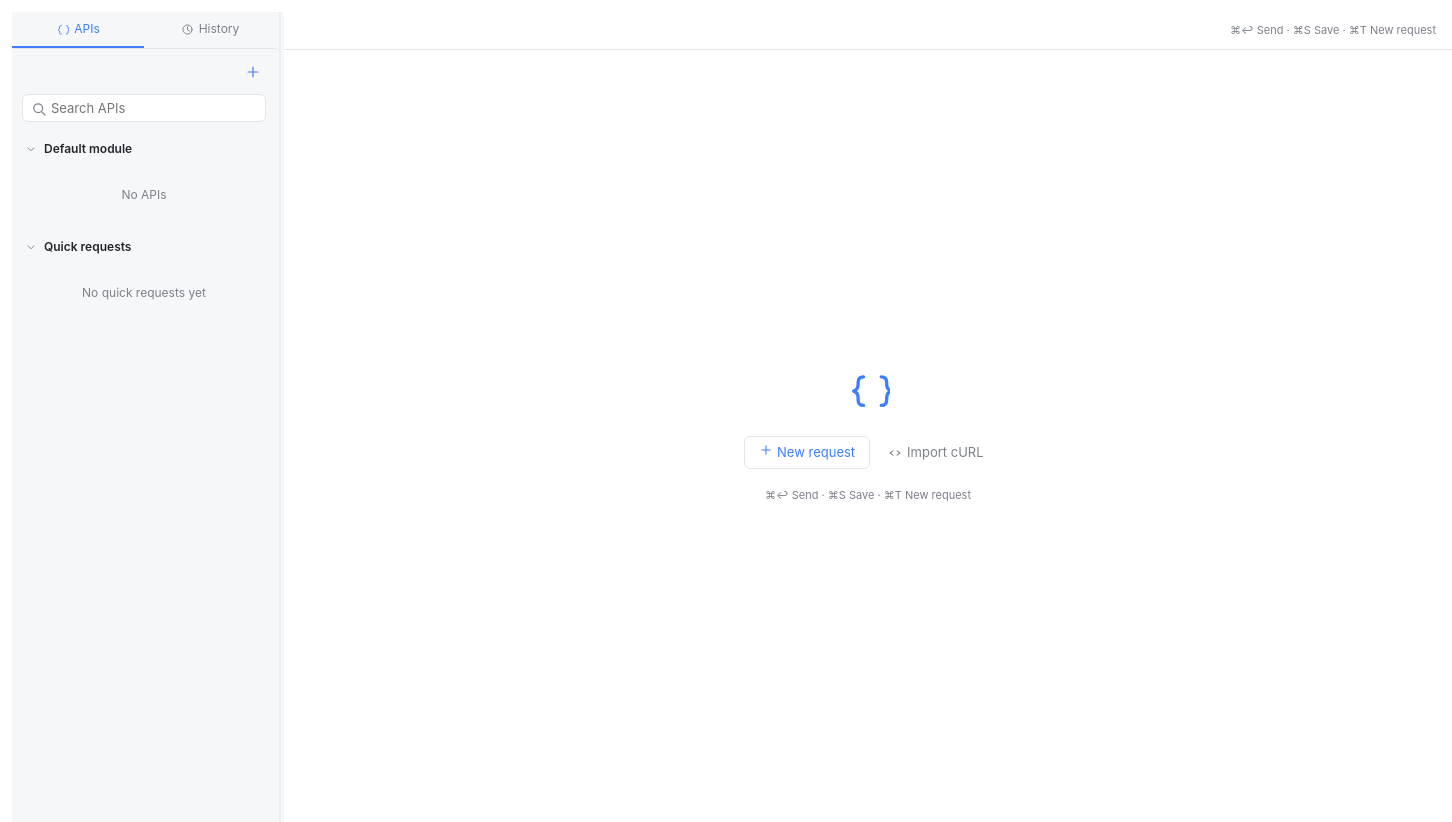
Scenario: body type chips › keeps the type names English in an English locale
The width and height of the screenshot is (1452, 822).
Click the button "New request" at x=807, y=453, box [744,436,870,469]
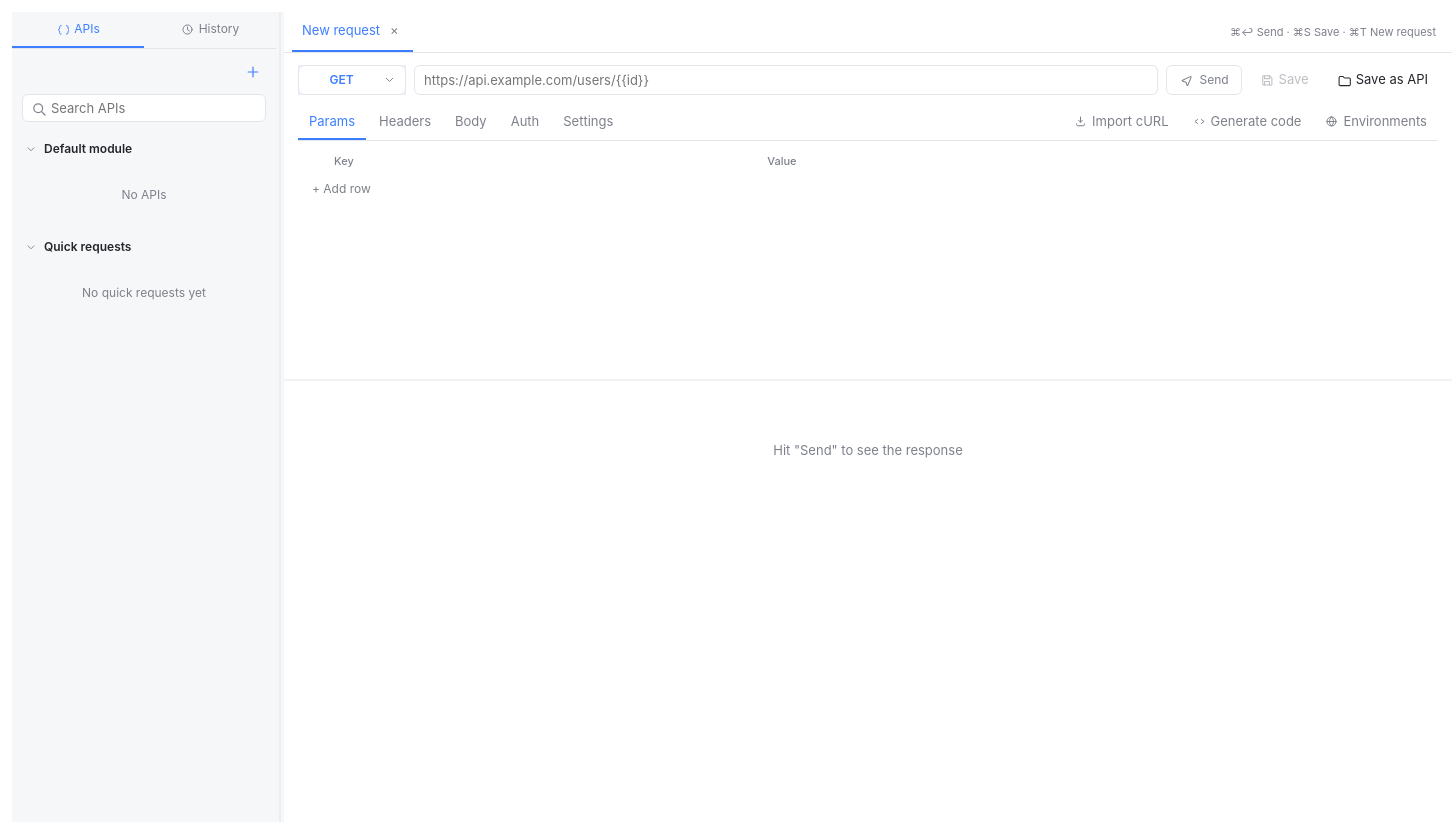
Click the button "Body" at x=471, y=122, box [444,104,498,140]
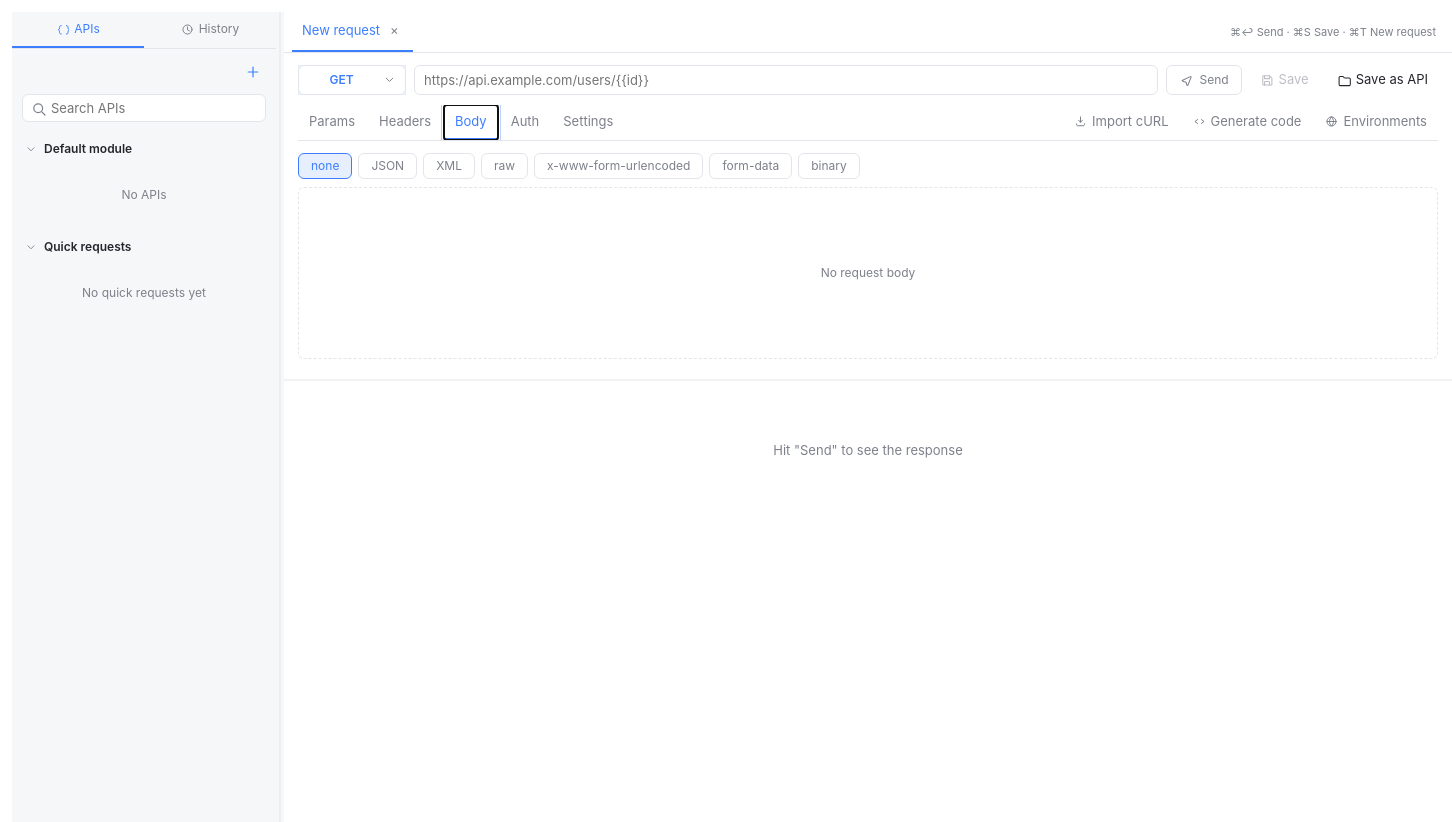
Result: the button "x-www-form-urlencoded" is shown at [534,153,703,179]
Result: the button "form-data" is shown at [709,153,792,179]
